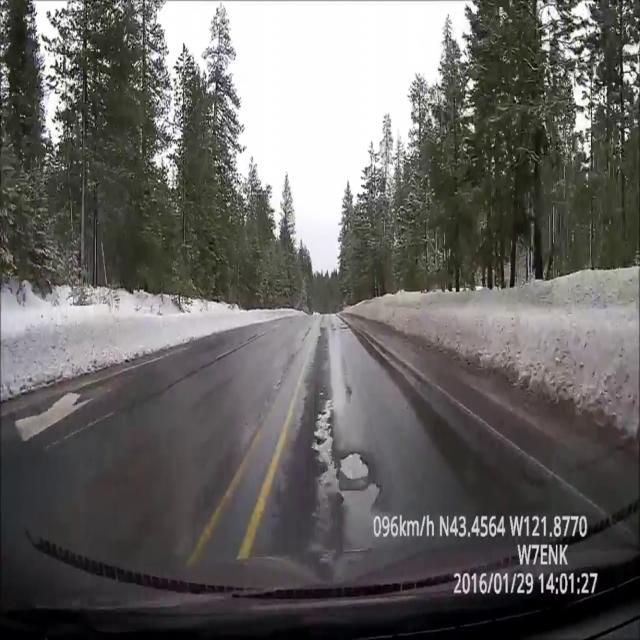Pothole: (341, 488, 382, 548), (316, 401, 332, 489), (337, 448, 372, 482)
